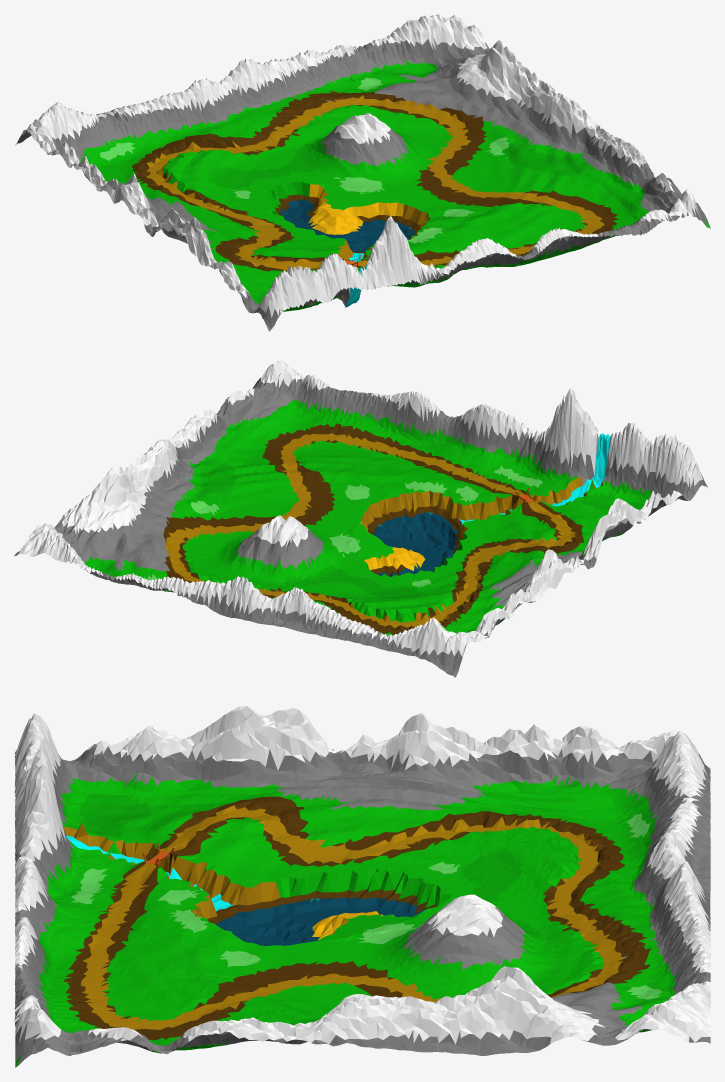
File: TerrainTest.fbx
3 renders of one model, top to bottom at view 1: azimuth 30°, elevation 25°; view 2: azimuth 150°, elevation 25°; view 3: azimuth 270°, elevation 25°, orthographic. The views are drawn at different scales.
Parts seen in each view (by area): view 1: Terrain; view 2: Terrain; view 3: Terrain.
Boxes of the visible parts, bbox=[...] form: Terrain: bbox=[15, 14, 710, 331]; Terrain: bbox=[14, 360, 707, 677]; Terrain: bbox=[14, 706, 710, 1067].
Bounding box in the file's own units: 60109 × 14421 × 60143.
